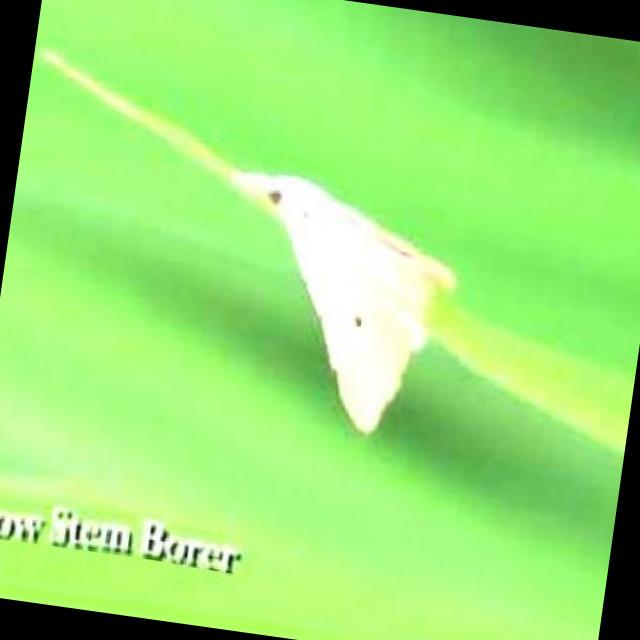stem-borer: (194, 162, 470, 449)
